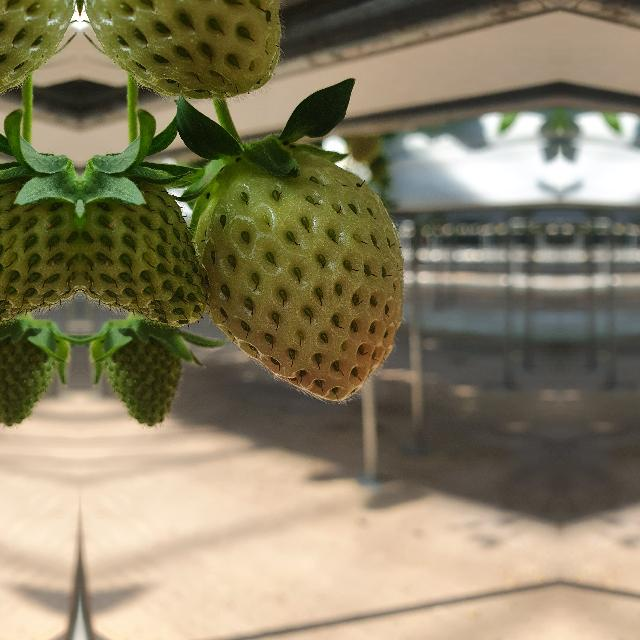Health_25: (193, 150, 403, 400), (80, 162, 208, 326), (82, 0, 282, 102), (0, 161, 80, 326), (97, 320, 193, 430), (0, 0, 78, 102), (0, 319, 63, 430)
